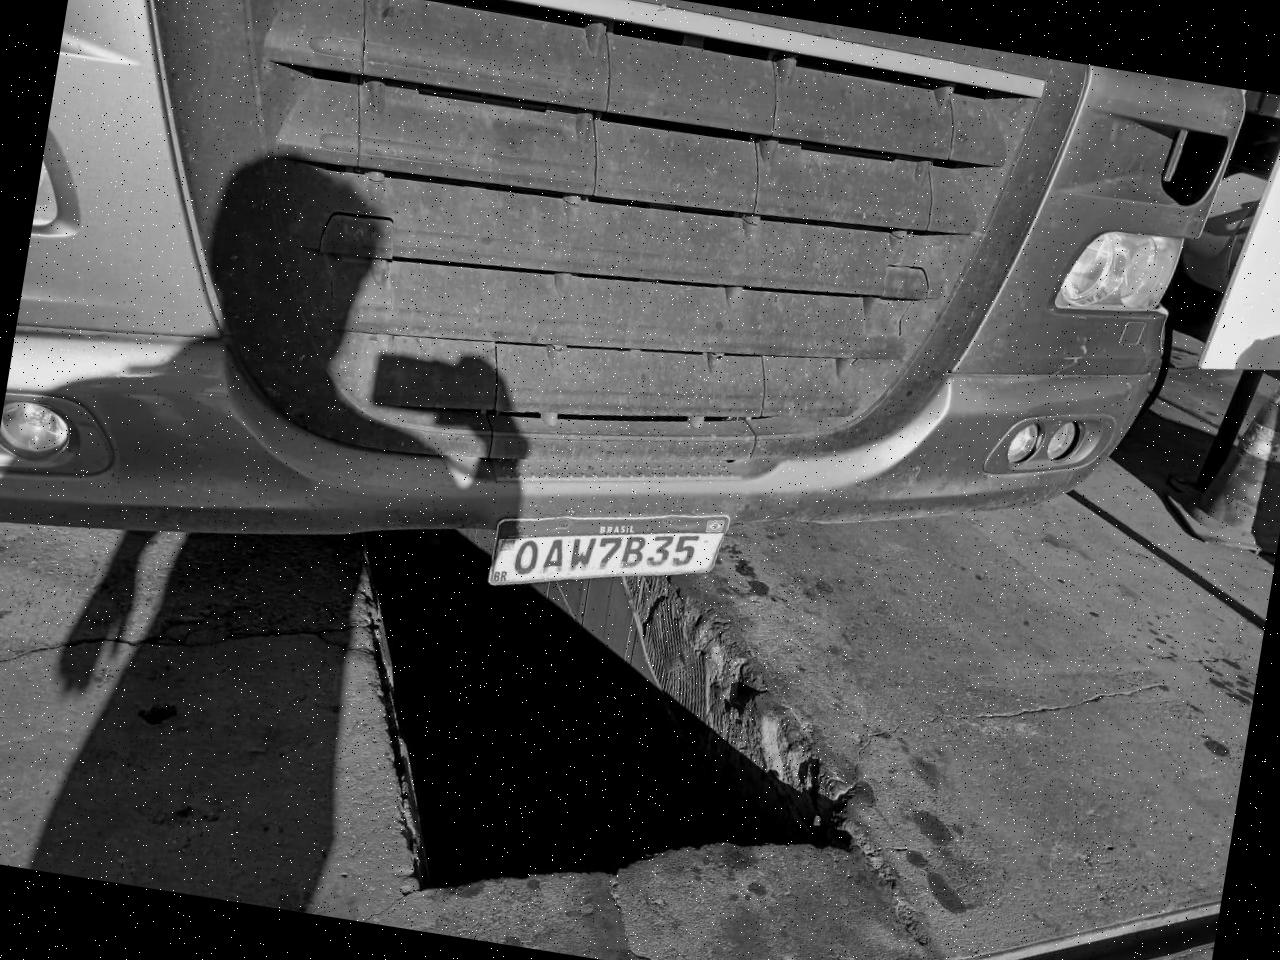placa_mercosul: (489, 515, 729, 585)
